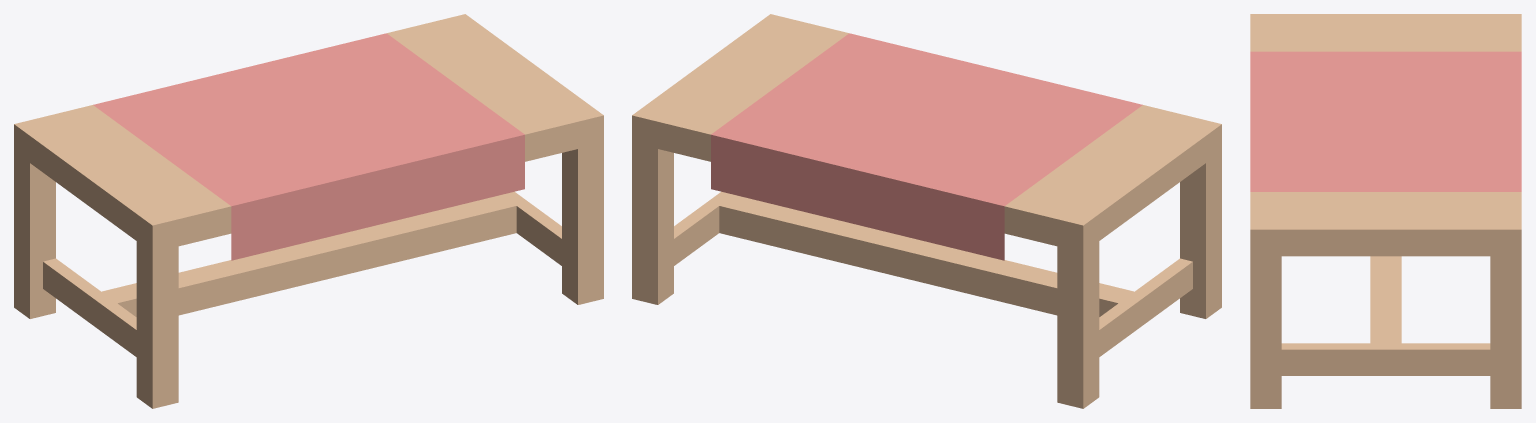
File: tableCloth.glb
3 views of the same model, side by side, from view 1: azimuth 30°, elevation 25°; view 2: azimuth 150°, elevation 25°; view 3: azimuth 270°, elevation 25° (orthographic). The views are drawn at different scales.
Parts seen in each view (by area): view 1: tableCloth(Clone); view 2: tableCloth(Clone); view 3: tableCloth(Clone).
Part boxes in pixels (<box>): tableCloth(Clone): <box>14,14,603,408</box>; tableCloth(Clone): <box>632,14,1221,408</box>; tableCloth(Clone): <box>1250,14,1521,408</box>.
Bounding box in the file's own units: 1.71 × 0.6633 × 0.9082.
2 materials, 2 textured.
